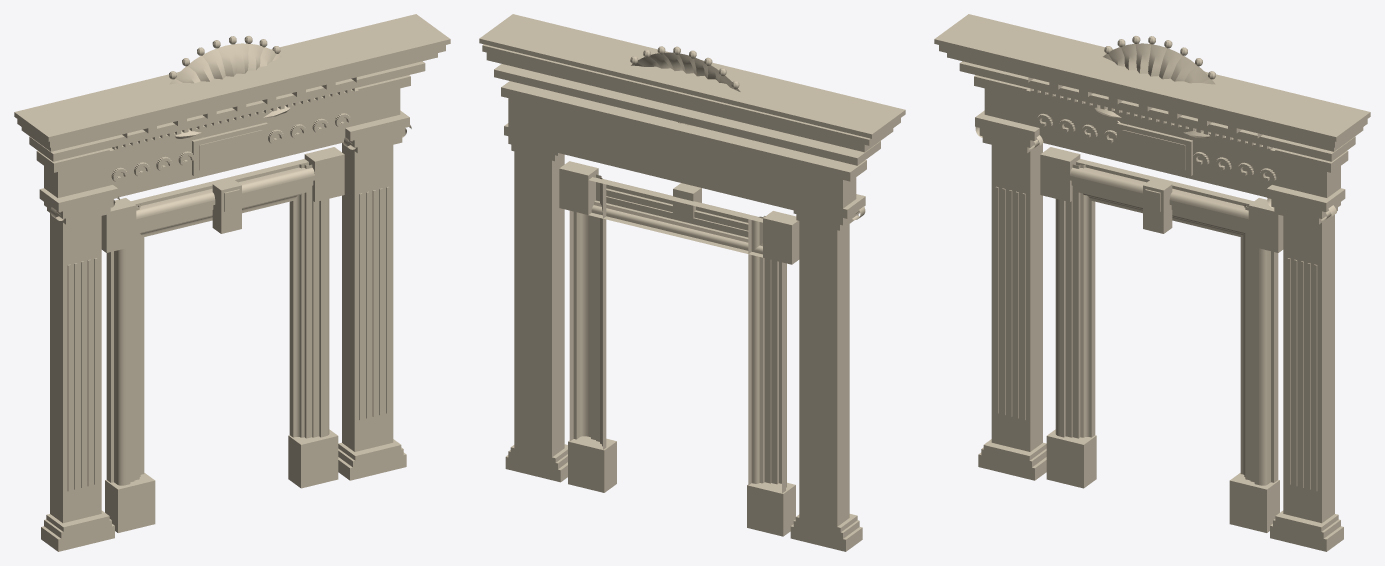
The model's file is G_DoorFrame.fbx.
The picture shows the model from 3 angles, left to right: view 1: azimuth 30°, elevation 25°; view 2: azimuth 150°, elevation 25°; view 3: azimuth 330°, elevation 25°; orthographic projection. The views are drawn at different scales.
Parts seen in each view (by area): view 1: G_DoorFrame; view 2: G_DoorFrame; view 3: G_DoorFrame.
Part boxes in pixels (<box>): G_DoorFrame: <box>14,14,450,551</box>; G_DoorFrame: <box>479,14,905,551</box>; G_DoorFrame: <box>934,14,1370,551</box>.
Bounding box in the file's own units: 2.7 × 2.99 × 0.4.
